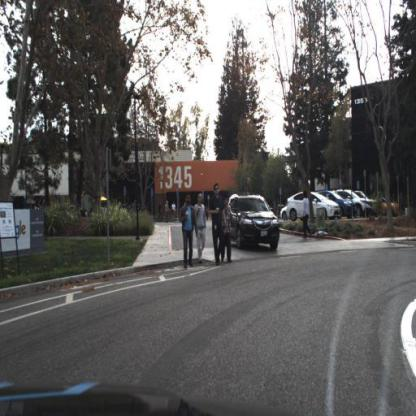car: (224, 191, 281, 255), (285, 189, 340, 219), (334, 188, 377, 222), (317, 189, 358, 220), (354, 191, 376, 223), (279, 202, 291, 223)
pedestrian: (178, 194, 200, 270), (208, 183, 226, 264), (192, 192, 211, 262), (219, 191, 236, 267), (195, 192, 207, 265), (300, 190, 312, 238)
